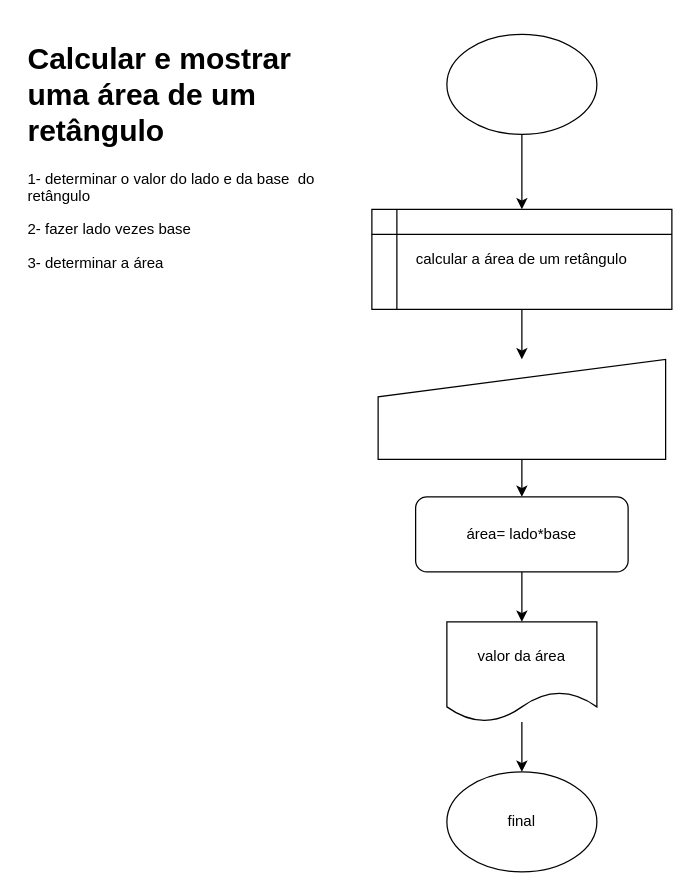
The diagram is 694 pixels wide and 894 high, and some of its shapes have lost their labels. Here are the shapes that lost their labels. From the top down, the centre of each, then its label:
point 521,83: inicio
point 521,408: determinar o valor do lado e da base do retângulo
